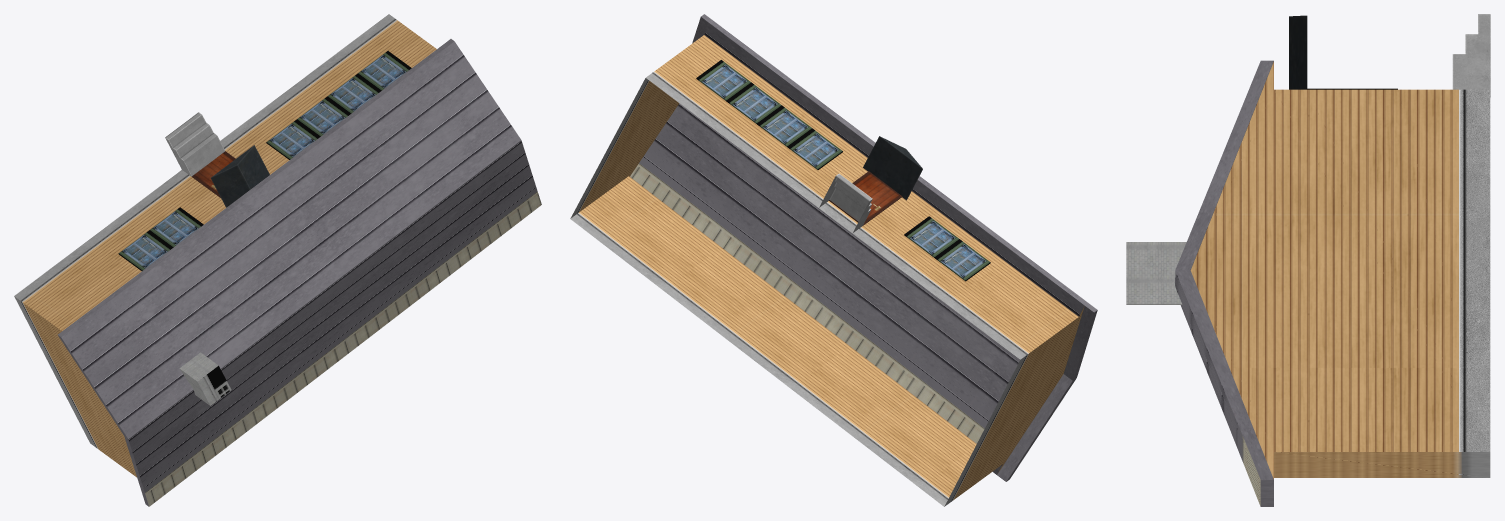
Rendered from 103_Toompuiestee_16_korvalhoone3.obj.
The picture shows the model from 3 angles, left to right: view 1: azimuth 30°, elevation 25°; view 2: azimuth 150°, elevation 25°; view 3: azimuth 270°, elevation 25°; orthographic projection. The views are drawn at different scales.
Parts seen in each view (by area): view 1: house04; view 2: house04; view 3: house04.
Part boxes in pixels (bbox=[...]): house04: bbox=[14, 14, 541, 506]; house04: bbox=[570, 14, 1097, 506]; house04: bbox=[1126, 14, 1490, 506].
Bounding box in the file's own units: 15.38 × 11.96 × 5.47.
